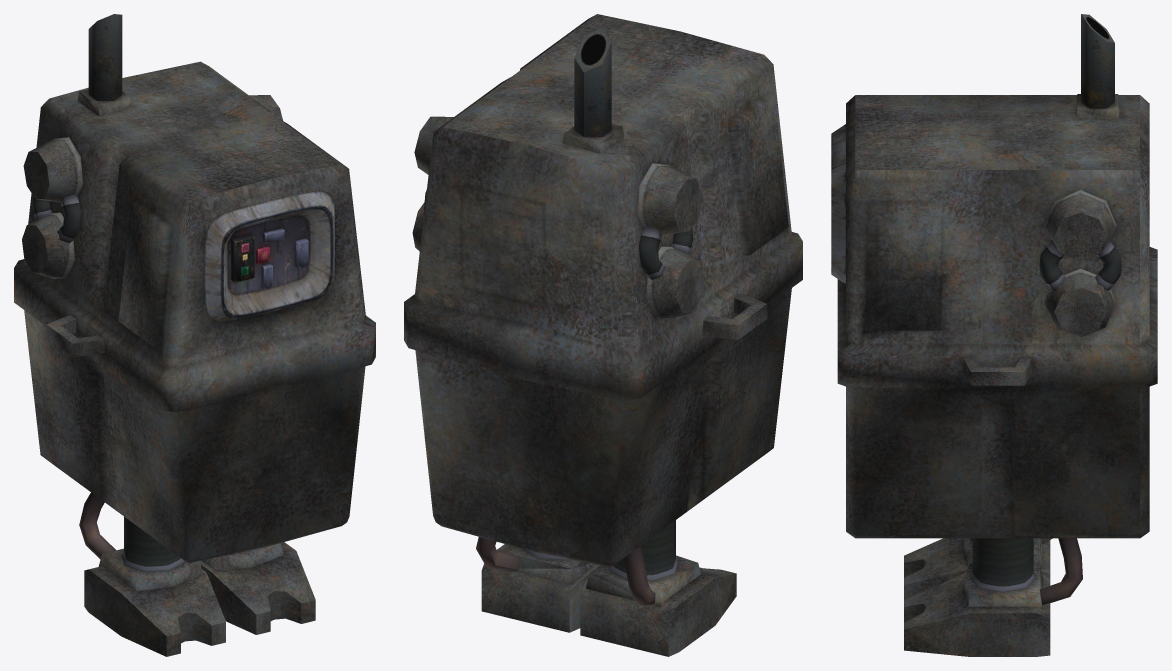
The picture shows the model from 3 angles, left to right: view 1: azimuth 30°, elevation 25°; view 2: azimuth 150°, elevation 25°; view 3: azimuth 270°, elevation 25°; orthographic projection. The views are drawn at different scales.
Parts seen in each view (by area): view 1: Mesh4_B_mainbody, Mesh3_B_rightleg, Mesh2_B_leftleg; view 2: Mesh4_B_mainbody, Mesh3_B_rightleg, Mesh2_B_leftleg; view 3: Mesh4_B_mainbody, Mesh2_B_leftleg, Mesh3_B_rightleg.
Boxes of the visible parts, <box> form: Mesh4_B_mainbody: <box>14,14,375,563</box>; Mesh3_B_rightleg: <box>79,492,225,656</box>; Mesh2_B_leftleg: <box>198,542,315,634</box>; Mesh4_B_mainbody: <box>404,14,802,567</box>; Mesh3_B_rightleg: <box>580,520,736,656</box>; Mesh2_B_leftleg: <box>476,537,599,632</box>; Mesh4_B_mainbody: <box>831,14,1157,538</box>; Mesh2_B_leftleg: <box>904,538,1082,656</box>; Mesh3_B_rightleg: <box>904,538,1052,599</box>.
Bounding box in the file's own units: 0.8135 × 1.64 × 0.8377.
1 material, 1 textured.
